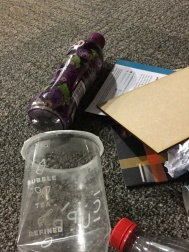bottle_purple: (13, 15, 112, 133)
